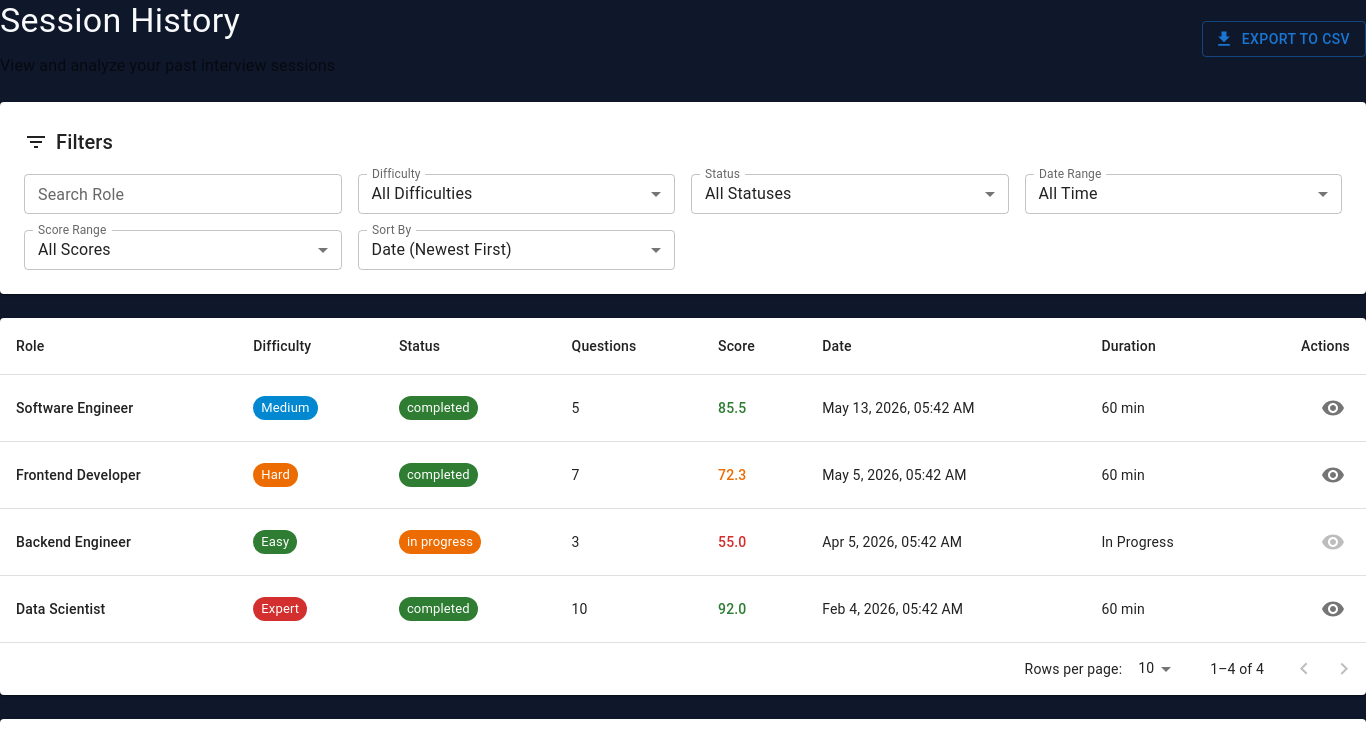
it: SessionHistoryPage - Search and Filter › Search Input Filtering › should filter sessions by role name
Expected: the text "Software Engineer" is shown, [16,400,133,416]
Step 1. Type "Frontend" into the field with placeholder "e.g., Software Engineer" → [183, 194], box [24,174,342,214]
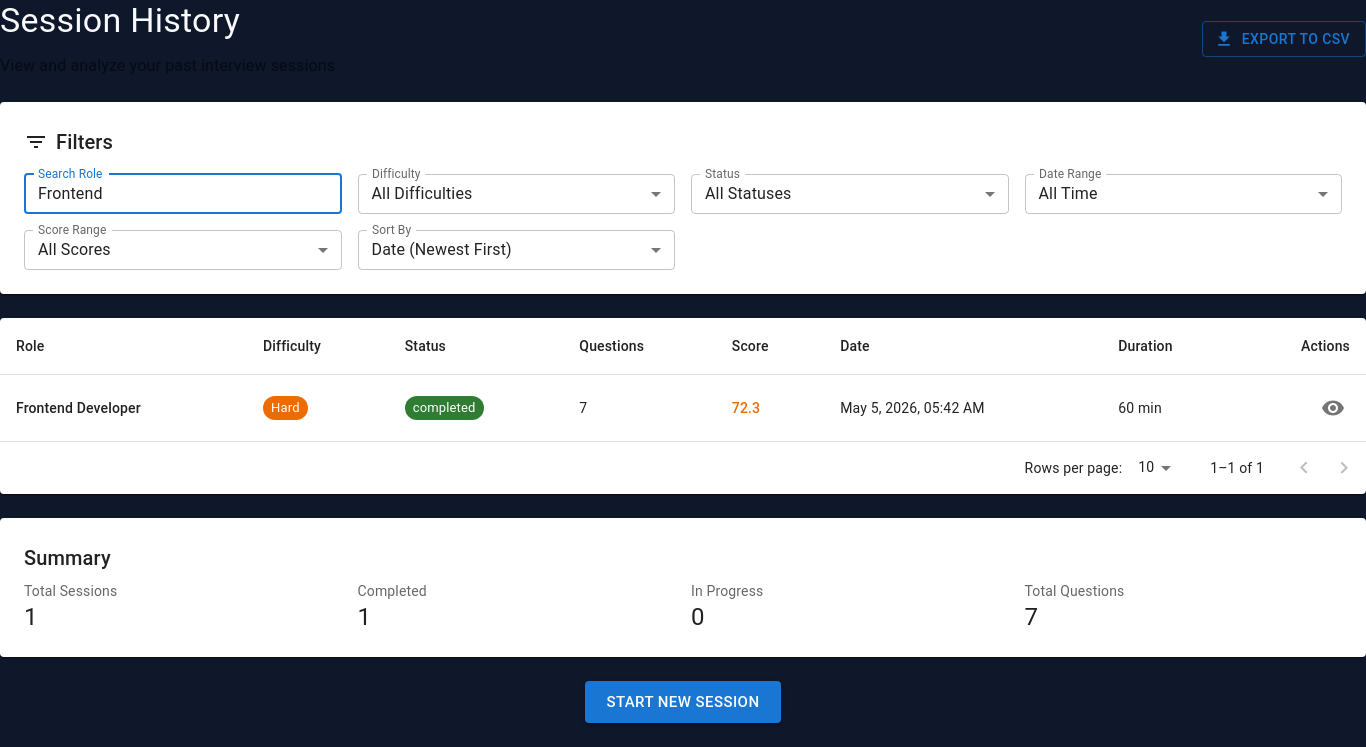
Expected: the text "Frontend Developer" is shown, [16,400,141,416]
Expected: the text "Software Engineer" is gone
Expected: the text "Backend Engineer" is gone
